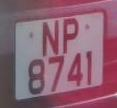1: (83, 47, 95, 91)
4: (65, 51, 85, 92)
7: (46, 54, 67, 96)
8: (23, 55, 51, 97)
N: (39, 15, 63, 61)
P: (61, 14, 81, 56)
